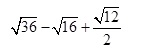division: (91, 25, 122, 32)
sqrt: (10, 15, 37, 34), (53, 16, 80, 35), (94, 5, 120, 24)
